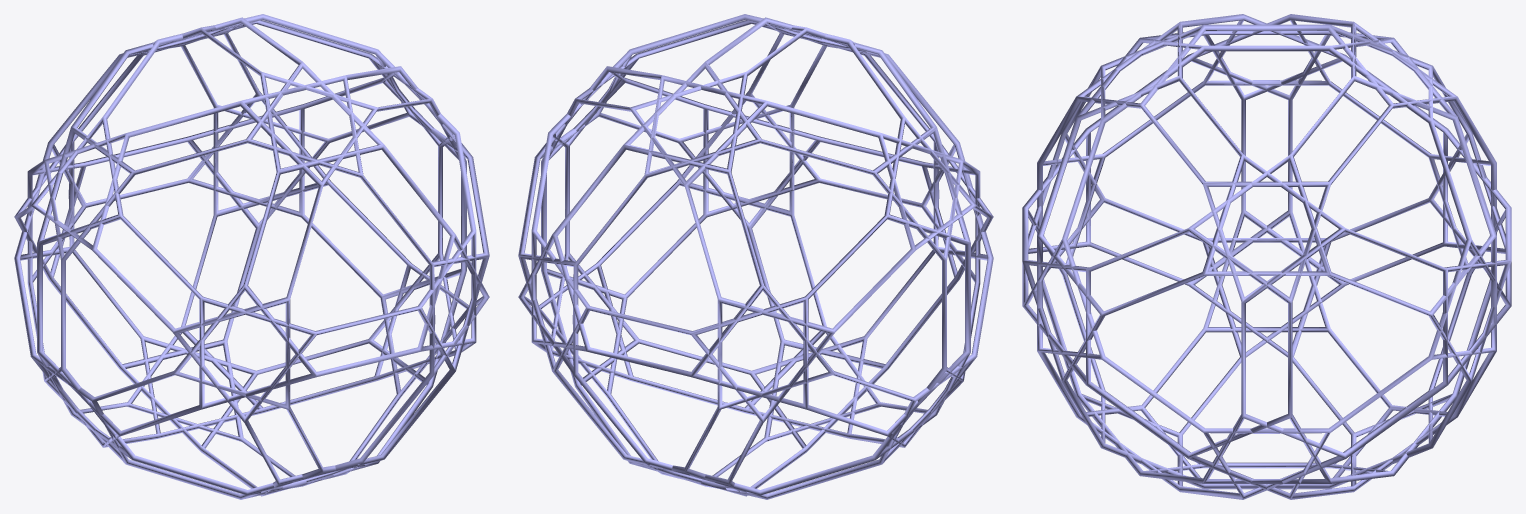
The model's file is IcositruncatedDodecadodecahedron2.glb.
3 renders of one model, left to right at view 1: azimuth 30°, elevation 25°; view 2: azimuth 150°, elevation 25°; view 3: azimuth 270°, elevation 25°, orthographic. The views are drawn at different scales.
Parts seen in each view (by area): view 1: IcositruncatedDodecadodecahedron; view 2: IcositruncatedDodecadodecahedron; view 3: IcositruncatedDodecadodecahedron.
Boxes of the visible parts, x1,y1,x2,y2 form: IcositruncatedDodecadodecahedron: [14, 14, 489, 499]; IcositruncatedDodecadodecahedron: [518, 14, 993, 499]; IcositruncatedDodecadodecahedron: [1022, 14, 1511, 499].
Bounding box in the file's own units: 3.9 × 3.9 × 3.9.
